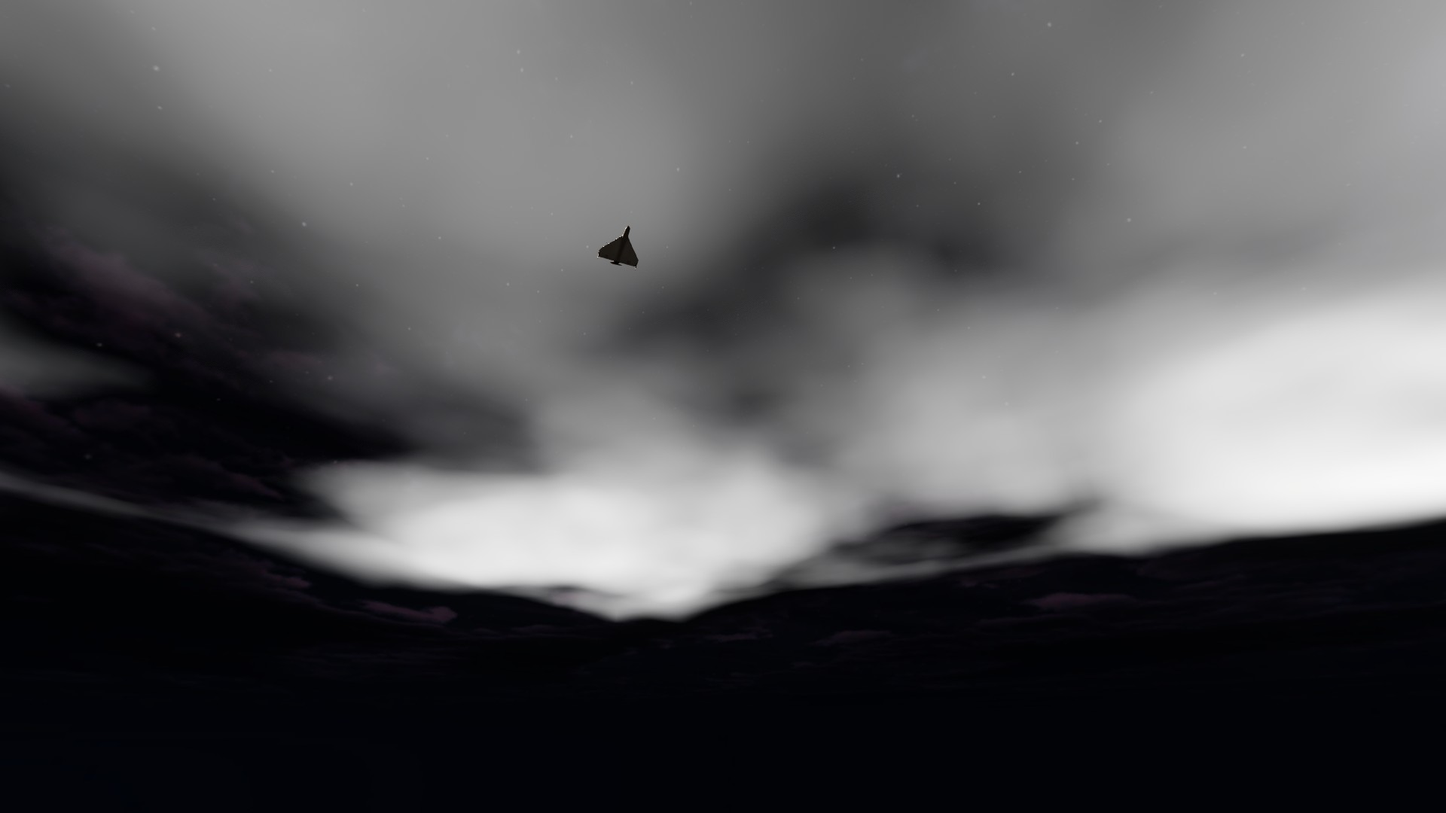shahed: (597, 226, 638, 271)
